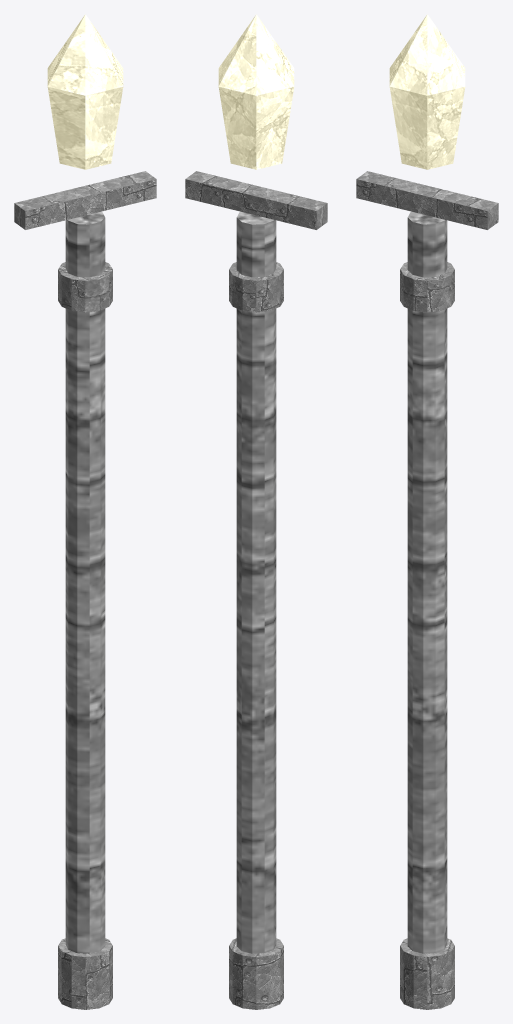
The model's file is staff-radiance-simple.glb.
The picture shows the model from 3 angles, left to right: view 1: azimuth 30°, elevation 25°; view 2: azimuth 150°, elevation 25°; view 3: azimuth 330°, elevation 25°; orthographic projection.
Visible parts, largest first — view 1: shaft, spark, cross, pommel, neck; view 2: shaft, spark, cross, pommel, neck; view 3: shaft, spark, cross, pommel, neck.
Boxes of the visible parts, box(x1,y1,x2,y2) form: shaft: box(65, 212, 105, 953); spark: box(47, 14, 123, 169); cross: box(14, 171, 156, 229); pommel: box(58, 938, 112, 1009); neck: box(58, 262, 112, 312); shaft: box(236, 212, 276, 953); spark: box(218, 14, 294, 169); cross: box(185, 171, 327, 229); pommel: box(229, 938, 283, 1009); neck: box(229, 262, 283, 312); shaft: box(407, 212, 447, 953); spark: box(389, 14, 465, 169); cross: box(356, 171, 498, 229); pommel: box(400, 938, 454, 1009); neck: box(400, 262, 454, 312).
Bounding box in the file's own units: 0.26 × 1.86 × 0.1299.
3 materials, 3 textured.
